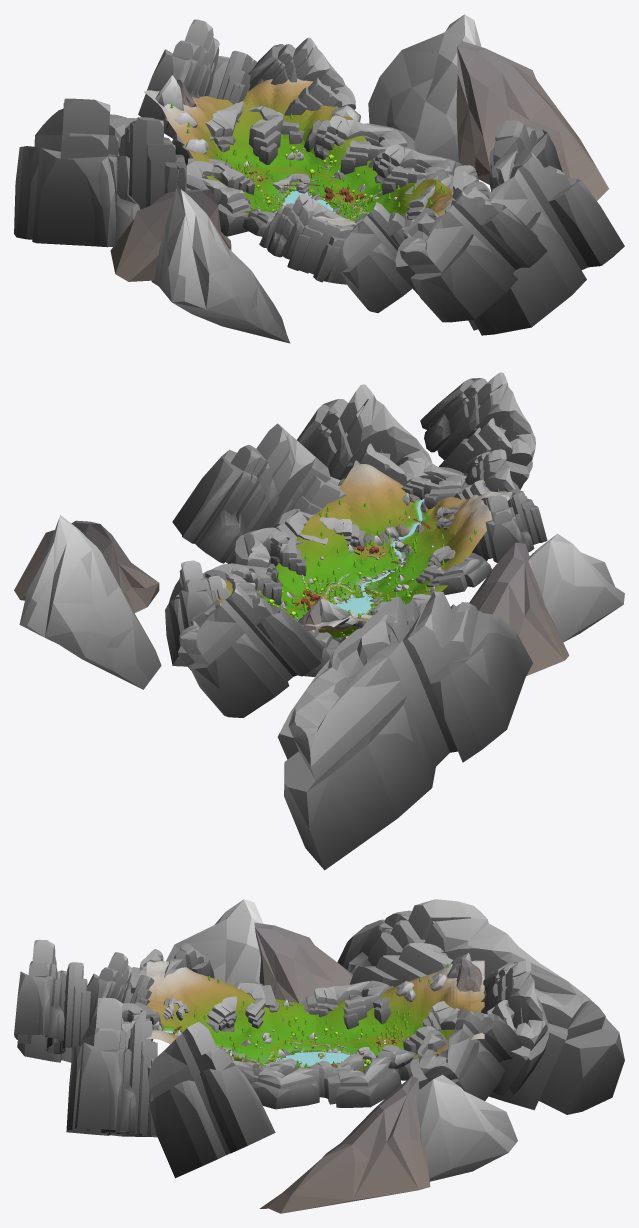
File: 20221107_grassland.glb
3 views of the same model, one above another, from view 1: azimuth 30°, elevation 25°; view 2: azimuth 150°, elevation 25°; view 3: azimuth 270°, elevation 25° (orthographic). The views are drawn at different scales.
Parts seen in each view (by area): view 1: DoubleRockShape__5_, QubicRocks1__15_, DoubleRockShape__3_, QubicRocks1__12_, QubicRocks1__9_, pPlane15, QubicRocks1__13_, QubicRocks1__8_, QubicRocks1__11_, QubicRocks1__14_, QubicRocks1__1_, QubicRocks1__6_ (+7 smaller); view 2: QubicRocks1__15_, DoubleRockShape__5_, pPlane15, QubicRocks1__10_, QubicRocks1__13_, DoubleRockShape__3_, QubicRocks1__9_, QubicRocks1__12_, QubicRocks1__11_, QubicRocks1__14_, QubicRocks1, QubicRocks1__3_ (+6 smaller); view 3: QubicRocks1__15_, DoubleRockShape__5_, pPlane15, QubicRocks1__10_, QubicRocks1__12_, DoubleRockShape__3_, QubicRocks1__9_, QubicRocks1__14_, QubicRocks1__13_, QubicRocks1__1_, QubicRocks1, QubicRocks1__5_ (+7 smaller).
Boxes of the visible parts, left/top/right/bottom form: DoubleRockShape__5_: left=368, top=14, right=608, bottom=200; QubicRocks1__15_: left=14, top=98, right=186, bottom=247; DoubleRockShape__3_: left=110, top=188, right=290, bottom=343; QubicRocks1__12_: left=445, top=149, right=624, bottom=335; QubicRocks1__9_: left=395, top=188, right=547, bottom=322; pPlane15: left=144, top=78, right=453, bottom=225; QubicRocks1__13_: left=138, top=19, right=256, bottom=138; QubicRocks1__8_: left=340, top=202, right=413, bottom=313; QubicRocks1__11_: left=259, top=193, right=354, bottom=284; QubicRocks1__14_: left=238, top=37, right=355, bottom=115; QubicRocks1__1_: left=304, top=115, right=417, bottom=174; QubicRocks1__6_: left=172, top=101, right=304, bottom=165; QubicRocks1__15_: left=277, top=591, right=532, bottom=870; DoubleRockShape__5_: left=14, top=515, right=161, bottom=689; pPlane15: left=176, top=462, right=511, bottom=638; QubicRocks1__10_: left=172, top=423, right=346, bottom=563; QubicRocks1__13_: left=178, top=584, right=323, bottom=717; DoubleRockShape__3_: left=469, top=533, right=624, bottom=675; QubicRocks1__9_: left=420, top=372, right=535, bottom=489; QubicRocks1__12_: left=297, top=384, right=432, bottom=486; QubicRocks1__11_: left=476, top=489, right=547, bottom=562; QubicRocks1__14_: left=165, top=560, right=229, bottom=666; QubicRocks1: left=233, top=527, right=306, bottom=586; QubicRocks1__3_: left=416, top=545, right=491, bottom=594; QubicRocks1__15_: left=337, top=899, right=624, bottom=1114; DoubleRockShape__5_: left=259, top=1074, right=517, bottom=1213; pPlane15: left=146, top=960, right=484, bottom=1071; QubicRocks1__10_: left=147, top=1022, right=275, bottom=1178; QubicRocks1__12_: left=66, top=997, right=157, bottom=1137; DoubleRockShape__3_: left=166, top=899, right=352, bottom=1044; QubicRocks1__9_: left=14, top=939, right=90, bottom=1062; QubicRocks1__14_: left=410, top=1009, right=522, bottom=1100; QubicRocks1__13_: left=481, top=960, right=548, bottom=1096; QubicRocks1__1_: left=327, top=1045, right=418, bottom=1107; QubicRocks1: left=251, top=1058, right=338, bottom=1109; QubicRocks1__5_: left=299, top=980, right=393, bottom=1029.
Bounding box in the file's own units: 497 × 224 × 567.
Materials: 600 (599 with a texture image).
